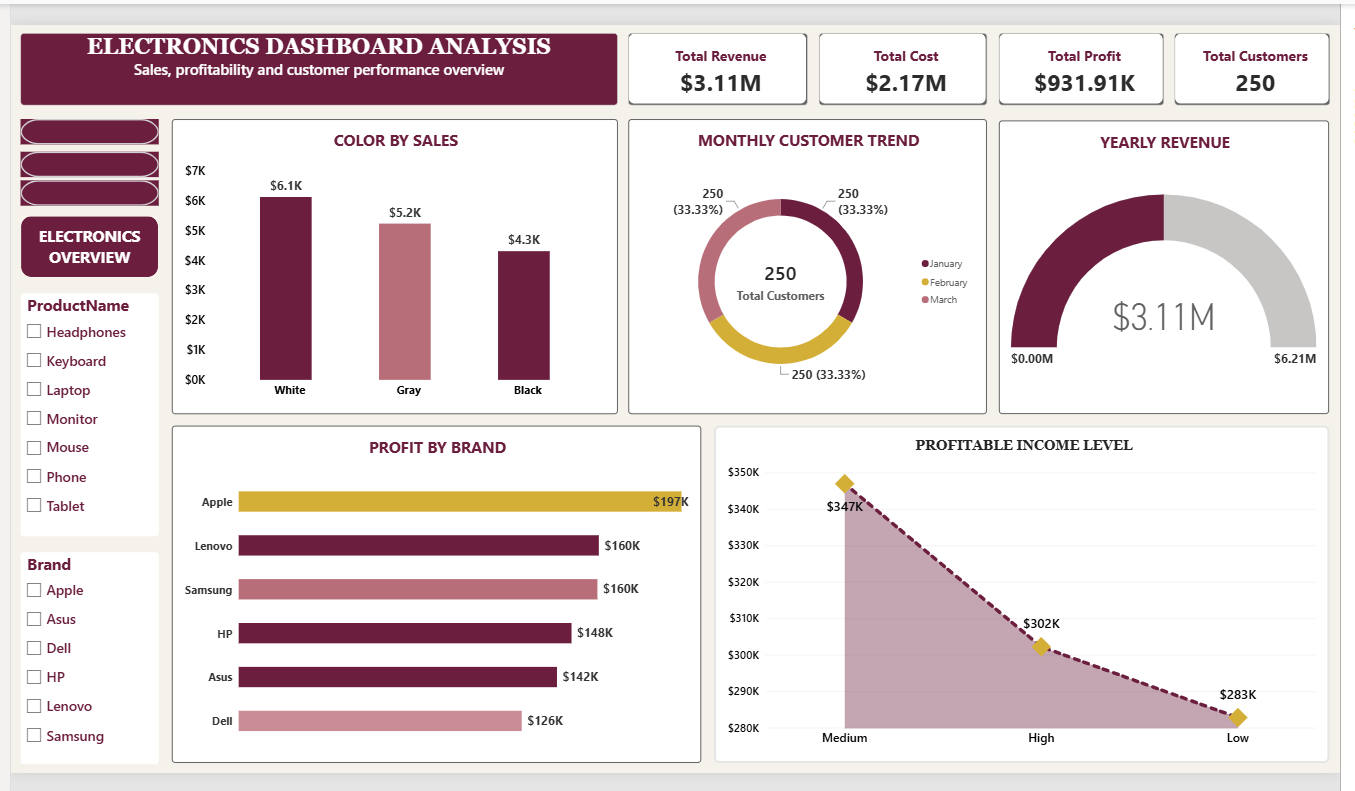

Layout of this report page (visuals, bound fields, positions):
{"tool":"powerbi","page":{"name":"BUSINESS ANALYSIS","canvas":[1920,1080],"ordinal":1},"visuals":[{"type":"cardVisual","fields":{"Data":["Sales.Total Revenue"]},"box":[856.4,8.5,194.7,100],"z":0,"group":"g1"},{"type":"slicer","fields":{"Values":["Products.Brand"]},"box":[26.1,787,188.6,293.2],"z":1000},{"type":"slicer","fields":{"Values":["Products.ProductName"]},"box":[28.3,282.6,189.1,339.1],"z":2000},{"type":"areaChart","title":"PROFITABLE INCOME LEVEL","fields":{"Category":["Customers.IncomeLevel"],"Y":["Sales.Total Profit"]},"box":[1022.7,579.5,875,481.8],"z":3000},{"type":"cardVisual","fields":{"Data":["Sales.Total Profit"]},"box":[1066,8.5,197.8,97.3],"z":8000,"group":"g2"},{"type":"cardVisual","fields":{"Data":["Sales.Total Cost"]},"box":[1280.9,8.5,204.3,100],"z":9000,"group":"g3"},{"type":"cardVisual","fields":{"Data":["Sales.Total Customers"]},"box":[1710.6,8.5,187.2,100],"z":10000,"group":"g5"},{"type":"cardVisual","fields":{"Data":["Sales.Total Sales"]},"box":[1500,8.5,195.7,100],"z":11000,"group":"g4"},{"type":"textbox","box":[27.7,6.4,810.6,100],"z":12000},{"type":"slicer","fields":{"Values":["Products.Category"]},"box":[28.3,621.7,189.1,132.6],"z":13000},{"type":"gauge","title":"YEARLY REVENUE","fields":{"Y":["Sales.Total Revenue"]},"box":[1397.8,123.9,500,447.7],"z":14000},{"type":"clusteredBarChart","title":"PROFITABLE BRANDS","fields":{"Category":["Products.Brand"],"Y":["Sales.Total Profit"]},"box":[236.4,579.5,770.5,481.8],"z":15000},{"type":"clusteredColumnChart","title":"COLORS BY SALES","fields":{"Category":["Products.Color"],"Y":["Sales.Total Units Sold"]},"box":[236.4,125,559.1,447.7],"z":16000},{"type":"donutChart","title":"MONTHLY CUSTOMER TRENDS","fields":{"Category":["DateTable.Month"],"Y":["Sales.Total Customers"]},"box":[804.3,123.9,593.2,447.7],"z":17000},{"type":"image","box":[1719.3,45.5,41.4,58.7],"z":18000,"group":"g5"},{"type":"image","box":[853.2,58.5,54.4,38.3],"z":19000,"group":"g1"},{"type":"image","box":[1504.6,54.2,48.4,50],"z":20000,"group":"g4"},{"type":"image","box":[1066,21.5,52.4,93.4],"z":20001,"group":"g2"},{"type":"image","box":[1280.9,47.6,65.2,50],"z":20002,"group":"g3"},{"type":"group","id":"g1","title":"Group 1","box":[853.2,8.5,197.9,100],"z":20003},{"type":"group","id":"g2","title":"Group 2","box":[1066,8.5,197.9,106.4],"z":20004},{"type":"group","id":"g3","title":"Group 3","box":[1280.9,8.5,204.3,100],"z":20005},{"type":"group","id":"g4","title":"Group 4","box":[1500,8.5,195.7,100],"z":20006},{"type":"group","id":"g5","title":"Group 5","box":[1710.6,8.5,187.2,100],"z":20007},{"type":"actionButton","box":[14.3,136.6,199.8,36.7],"z":20008},{"type":"actionButton","box":[14.3,183.5,199.8,36.7],"z":20009},{"type":"actionButton","box":[14.3,224.3,199.8,36.7],"z":20010}]}

Visuals, with their boxes on the page's 1920x1080 design canvas (x1, y1, x2, y2). These are canvas units, not pixel positions in the 1355x791 screenshot, which may show the page scaled, cropped or inside an application window:
cardVisual - Sales.Total Revenue: bbox(856, 8, 1051, 108)
slicer - Products.Brand: bbox(26, 787, 215, 1080)
slicer - Products.ProductName: bbox(28, 283, 217, 622)
"PROFITABLE INCOME LEVEL" areaChart: bbox(1023, 580, 1898, 1061)
cardVisual - Sales.Total Profit: bbox(1066, 8, 1264, 106)
cardVisual - Sales.Total Cost: bbox(1281, 8, 1485, 108)
cardVisual - Sales.Total Customers: bbox(1711, 8, 1898, 108)
cardVisual - Sales.Total Sales: bbox(1500, 8, 1696, 108)
textbox: bbox(28, 6, 838, 106)
slicer - Products.Category: bbox(28, 622, 217, 754)
"YEARLY REVENUE" gauge: bbox(1398, 124, 1898, 572)
"PROFITABLE BRANDS" clusteredBarChart: bbox(236, 580, 1007, 1061)
"COLORS BY SALES" clusteredColumnChart: bbox(236, 125, 796, 573)
"MONTHLY CUSTOMER TRENDS" donutChart: bbox(804, 124, 1398, 572)
image: bbox(1719, 46, 1761, 104)
image: bbox(853, 58, 908, 97)
image: bbox(1505, 54, 1553, 104)
image: bbox(1066, 22, 1118, 115)
image: bbox(1281, 48, 1346, 98)
"Group 1" group: bbox(853, 8, 1051, 108)
"Group 2" group: bbox(1066, 8, 1264, 115)
"Group 3" group: bbox(1281, 8, 1485, 108)
"Group 4" group: bbox(1500, 8, 1696, 108)
"Group 5" group: bbox(1711, 8, 1898, 108)
actionButton: bbox(14, 137, 214, 173)
actionButton: bbox(14, 184, 214, 220)
actionButton: bbox(14, 224, 214, 261)
